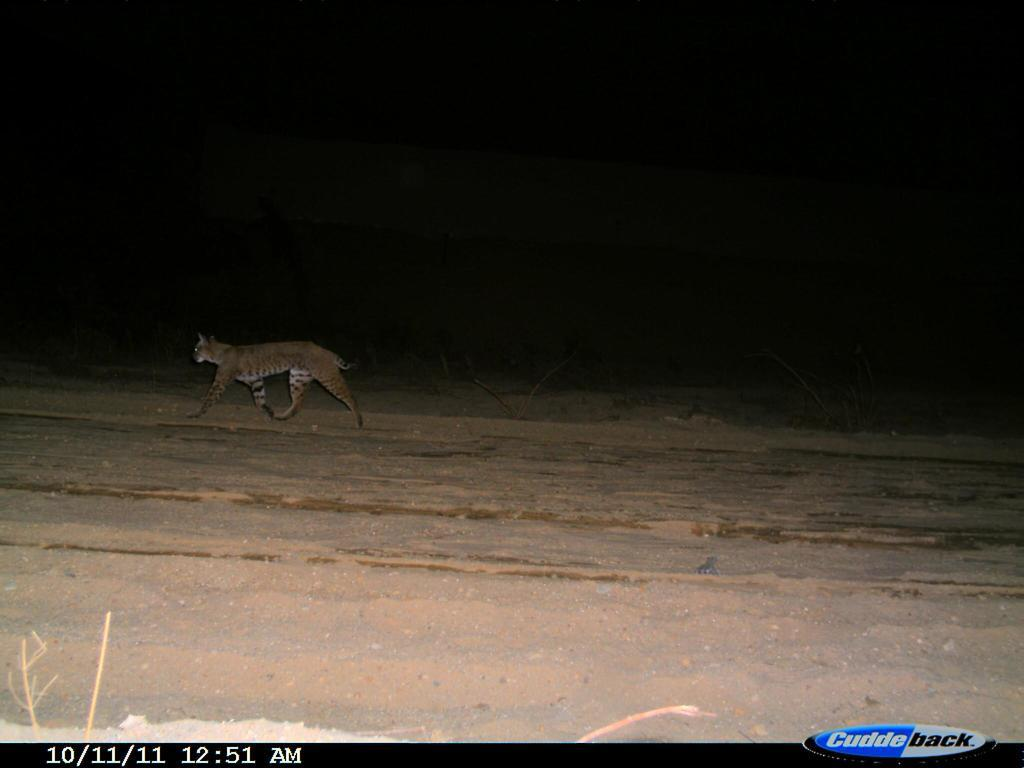bobcat: (177, 318, 373, 436)
